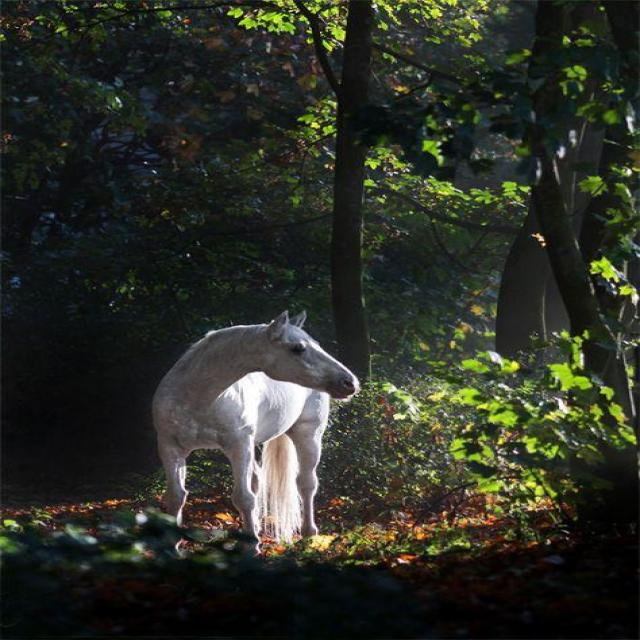horse: (150, 309, 360, 557)
